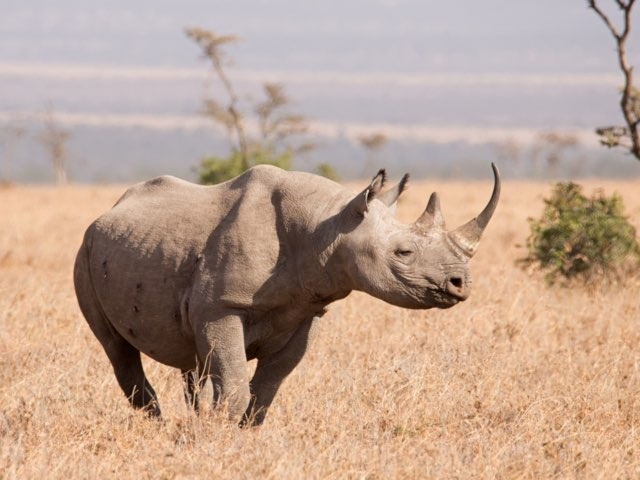rhino: (70, 160, 502, 430)
